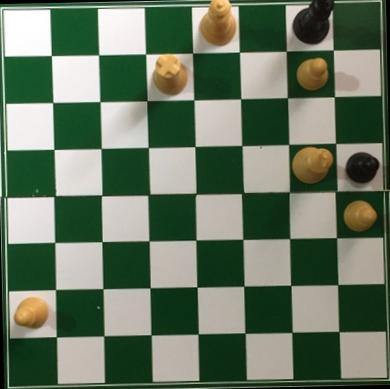black-king: (291, 0, 337, 48)
black-pawn: (343, 149, 381, 185)
white-king: (286, 146, 335, 186)
white-pawn: (12, 295, 52, 332), (294, 56, 332, 93), (341, 197, 379, 233)
white-queen: (197, 0, 238, 50)
white-rook: (150, 51, 189, 96)
